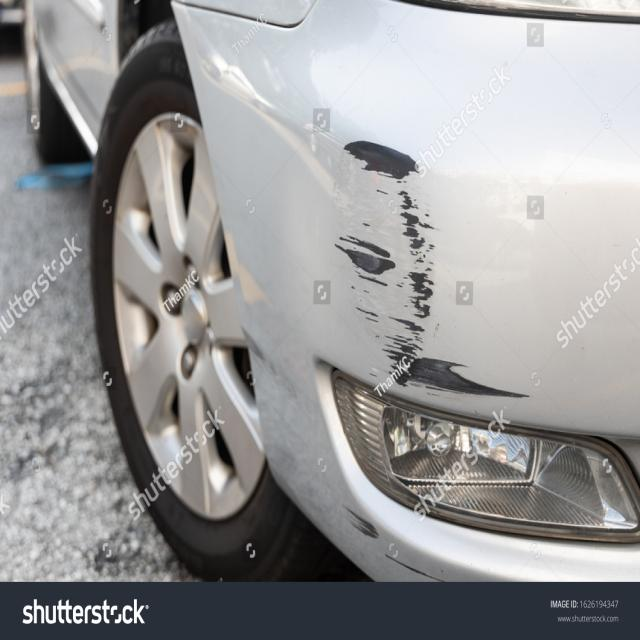scratch: (328, 138, 532, 406), (241, 325, 285, 393), (383, 550, 452, 585), (339, 500, 381, 541)
